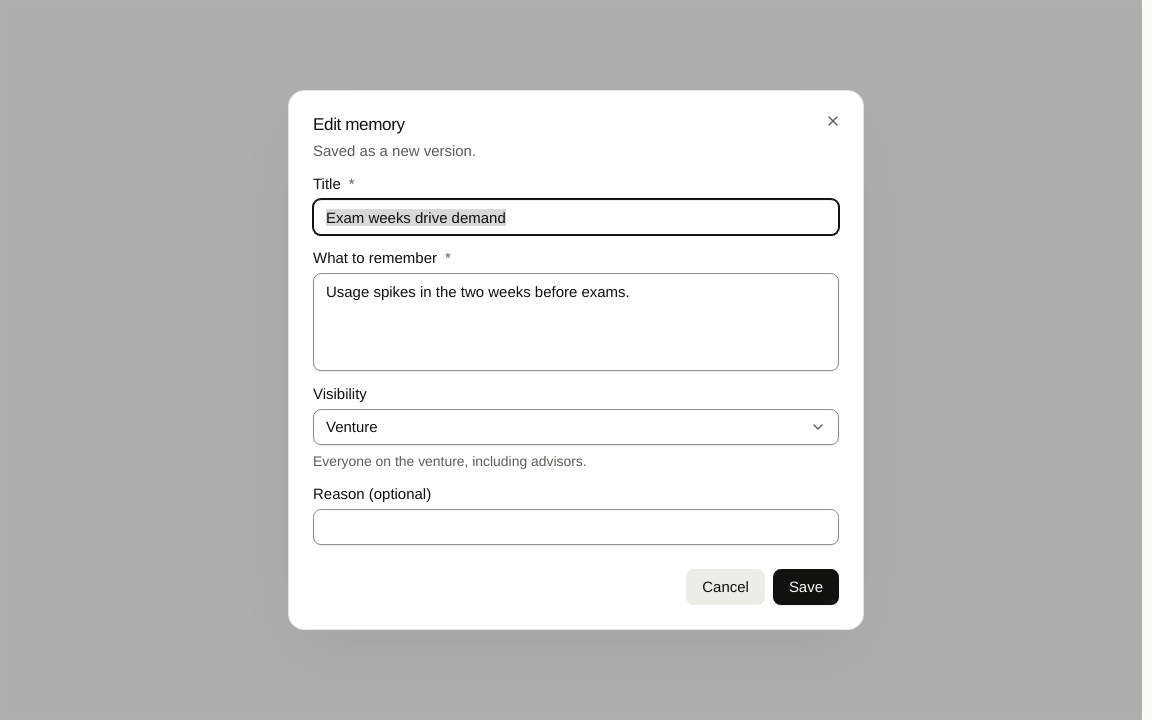
it: CorrectMemoryDialog › saves no edit when keeping the older suggestion failed, and says why
This screenshot has width=1152, height=720.
Replace the text in the field labelled "Title *" with "Exam weeks double demand" at (576, 217), box [313, 199, 839, 235]
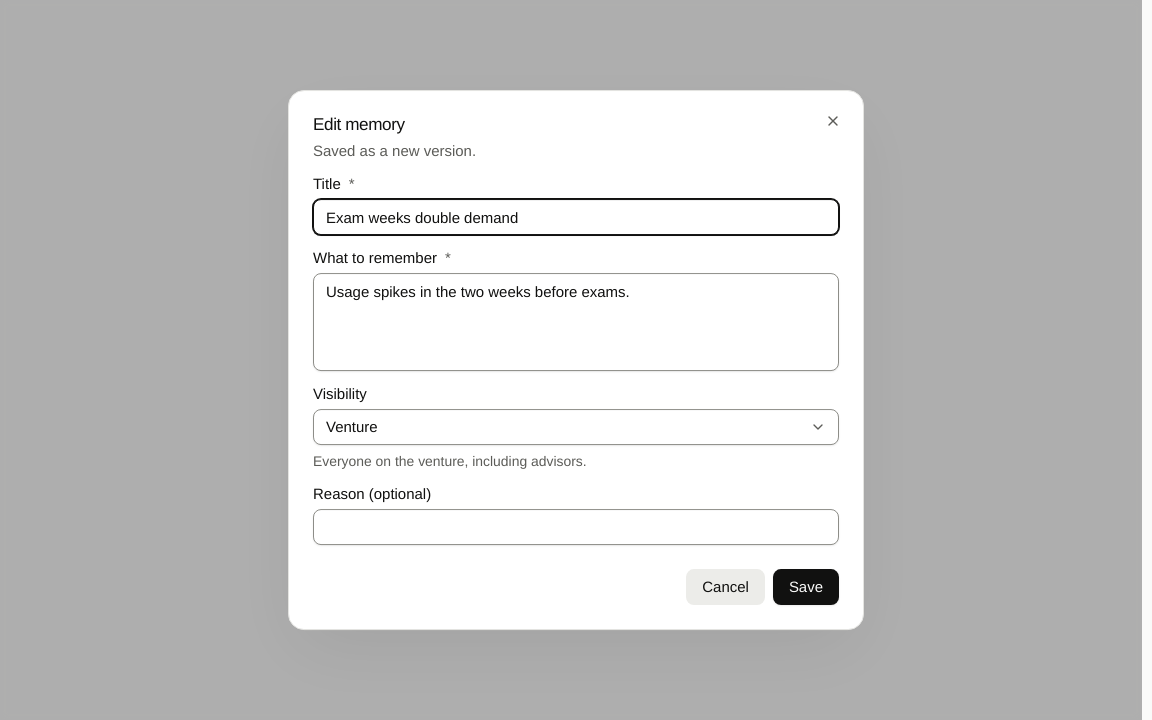
Click the button "Save".
click(806, 587)  # box [773, 569, 839, 605]
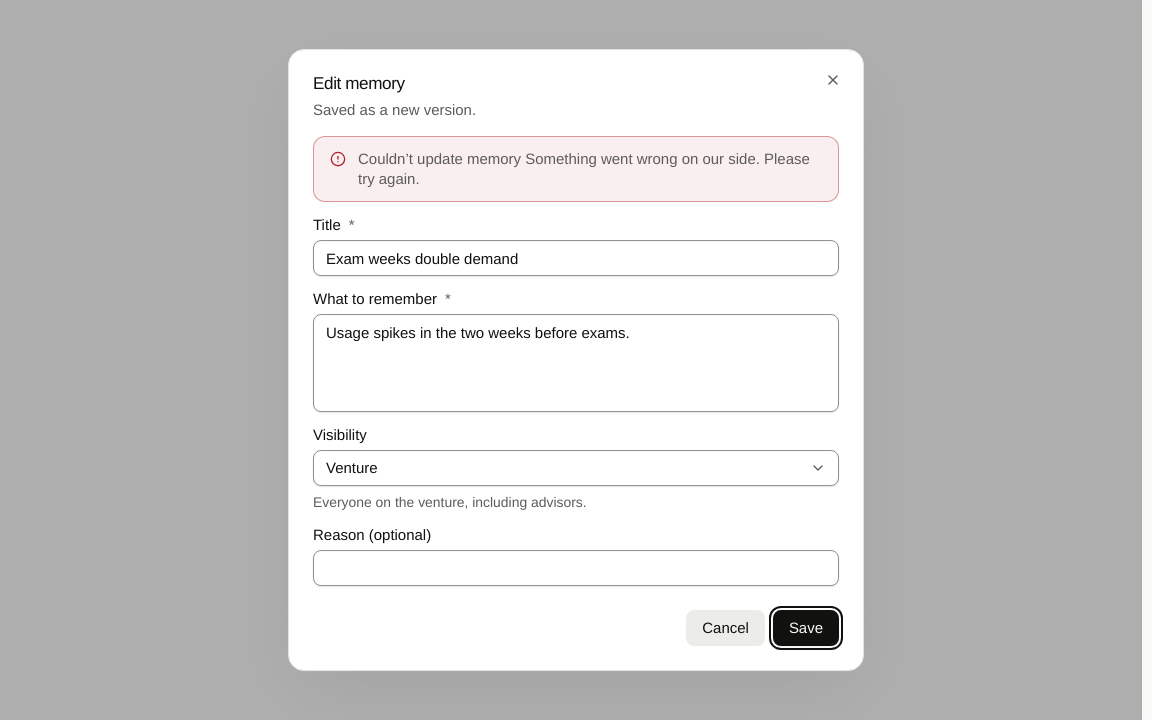
Check: the message shows "Couldn’t update memory", box [358, 150, 810, 187]
